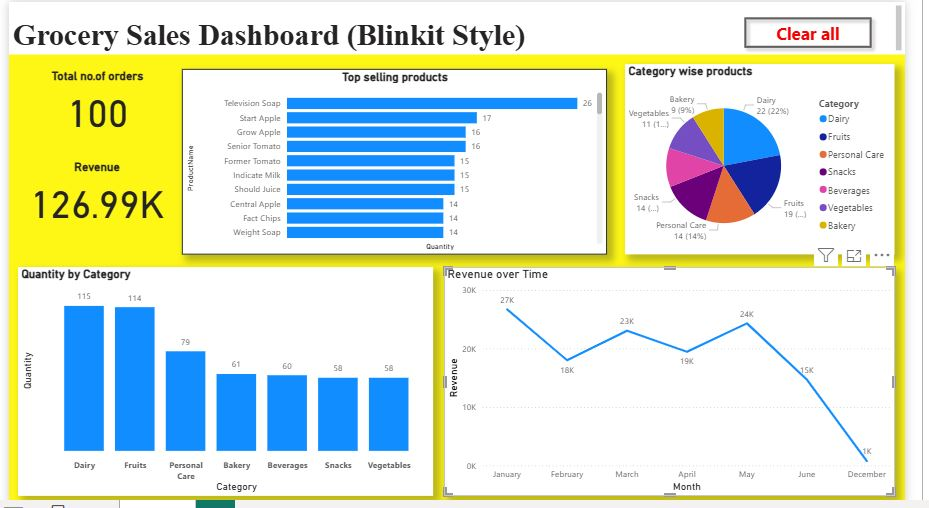

What the dashboard file says about the page in this screenshot:
{"tool":"powerbi","page":{"name":"Page 1","canvas":[1280,720],"ordinal":0},"visuals":[{"type":"card","title":"Total no.of orders ","fields":{"Values":["CountNonNull(Orders.OrderID)"]},"box":[13.3,95,170,93.3],"z":0},{"type":"textbox","box":[0,0,1280,75],"z":1},{"type":"card","title":"Revenue","fields":{"Values":["Sum(Orders.TotalAmount)"]},"box":[13.3,225,251.7,93.3],"z":2},{"type":"barChart","title":"Top selling products","fields":{"Category":["Products.ProductName"],"Y":["Sum(Orders.Quantity)"]},"box":[265,108.3,588.3,251.7],"z":3},{"type":"pieChart","title":"Category wise products","fields":{"Category":["Products.Category"],"Y":["CountNonNull(Products.ProductName)"]},"box":[880,88.3,385,271.7],"z":4},{"type":"lineChart","title":"Revenue over Time","fields":{"Y":["Sum(Orders.TotalAmount)"],"Category":["Orders.OrderDate.Variation.Date Hierarchy.Month"]},"box":[621.7,378.3,643.3,326.7],"z":5},{"type":"clusteredColumnChart","title":"Quantity by Category","fields":{"Category":["Products.Category"],"Y":["Sum(Orders.Quantity)"]},"box":[13.3,378.3,593.3,326.7],"z":6},{"type":"actionButton","box":[1041.7,13.3,200,61.7],"z":7},{"type":"actionButton","box":[0,0,200,50],"z":8}]}

Visuals, with their boxes in screenshot pixels (x1, y1, x2, y2), scaled from the page's 1280x720 canvas onto the 929x508 screenshot:
"Total no.of orders " card: [left=10, top=67, right=133, bottom=133]
textbox: [left=0, top=0, right=928, bottom=53]
"Revenue" card: [left=10, top=159, right=192, bottom=225]
"Top selling products" barChart: [left=192, top=76, right=619, bottom=254]
"Category wise products" pieChart: [left=639, top=62, right=918, bottom=254]
"Revenue over Time" lineChart: [left=451, top=267, right=918, bottom=497]
"Quantity by Category" clusteredColumnChart: [left=10, top=267, right=440, bottom=497]
actionButton: [left=756, top=9, right=901, bottom=53]
actionButton: [left=0, top=0, right=145, bottom=35]
